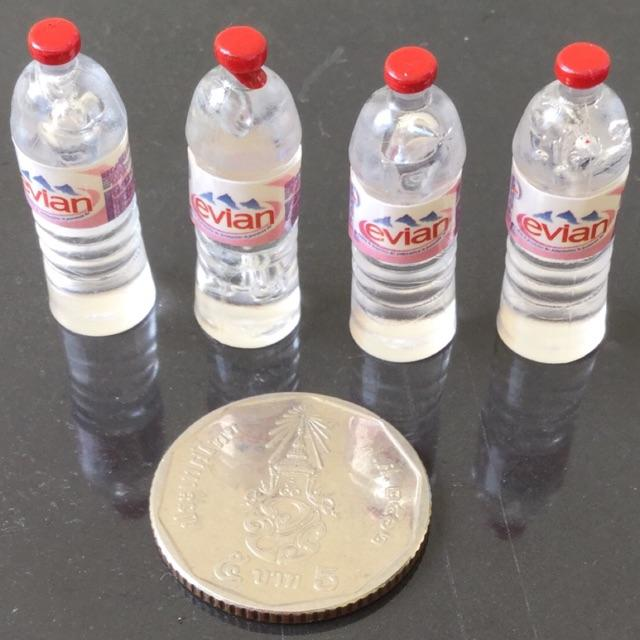bottle: (1, 10, 162, 343), (491, 30, 637, 373), (336, 31, 477, 371), (174, 20, 314, 355)
